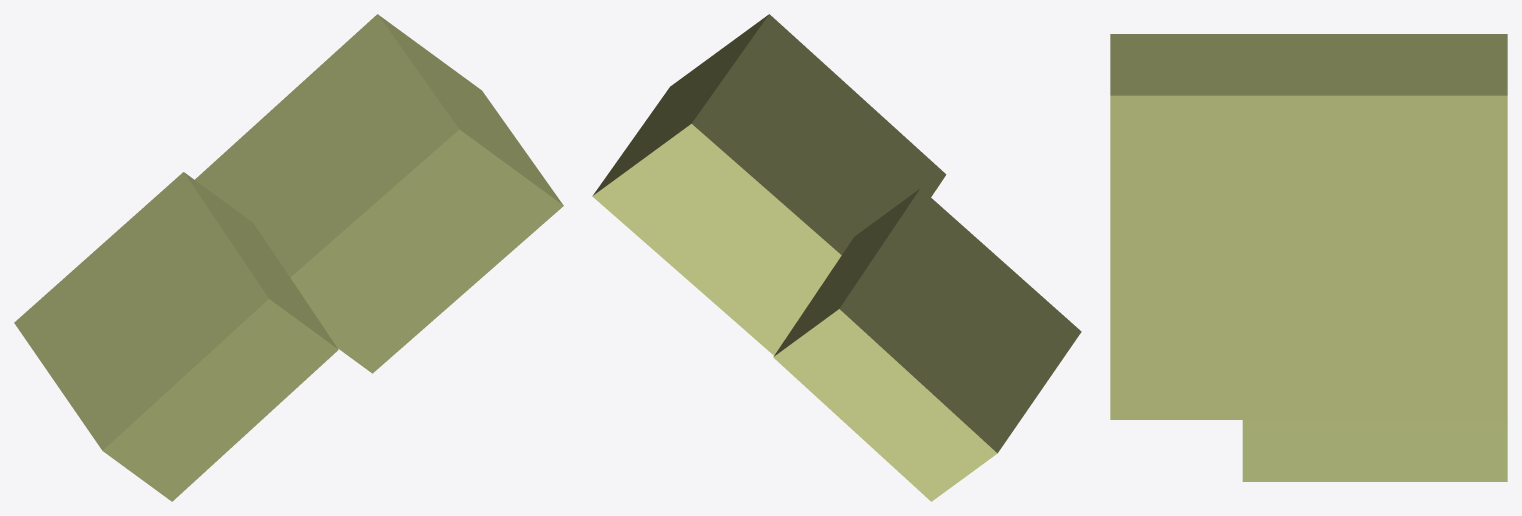
3 renders of one model, left to right at view 1: azimuth 30°, elevation 25°; view 2: azimuth 150°, elevation 25°; view 3: azimuth 270°, elevation 25°, orthographic. The views are drawn at different scales.
Visible parts, largest first — view 1: 0_3_2_0_2_2_3_2_3_2; view 2: 0_3_2_0_2_2_3_2_3_2; view 3: 0_3_2_0_2_2_3_2_3_2.
Part boxes in pixels (x1,y1,x2,y2): 0_3_2_0_2_2_3_2_3_2: [14, 14, 563, 501]; 0_3_2_0_2_2_3_2_3_2: [592, 14, 1081, 501]; 0_3_2_0_2_2_3_2_3_2: [1110, 34, 1507, 481].
Bounding box in the file's own units: 22.14 × 17.57 × 9.
